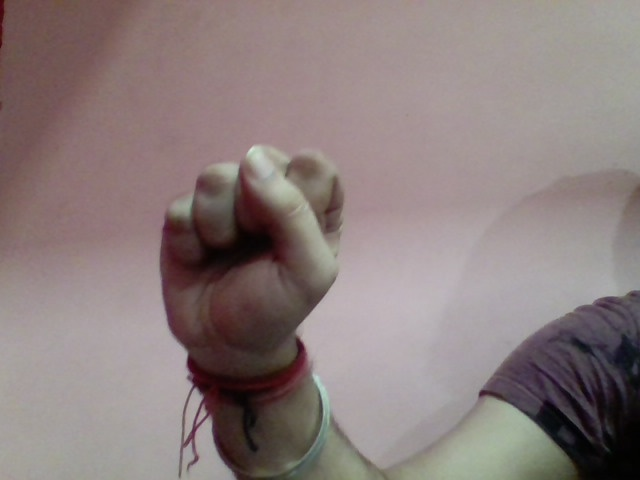s: (144, 139, 346, 364)
